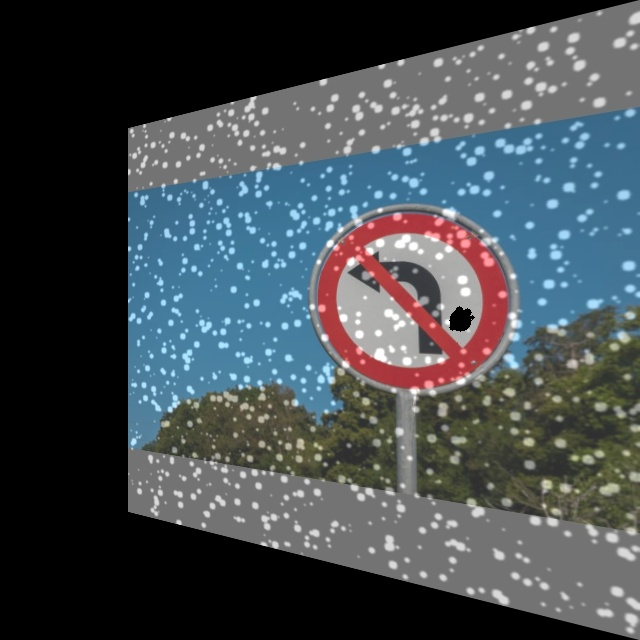Left_Turn_Prohibited: (310, 199, 520, 398)
